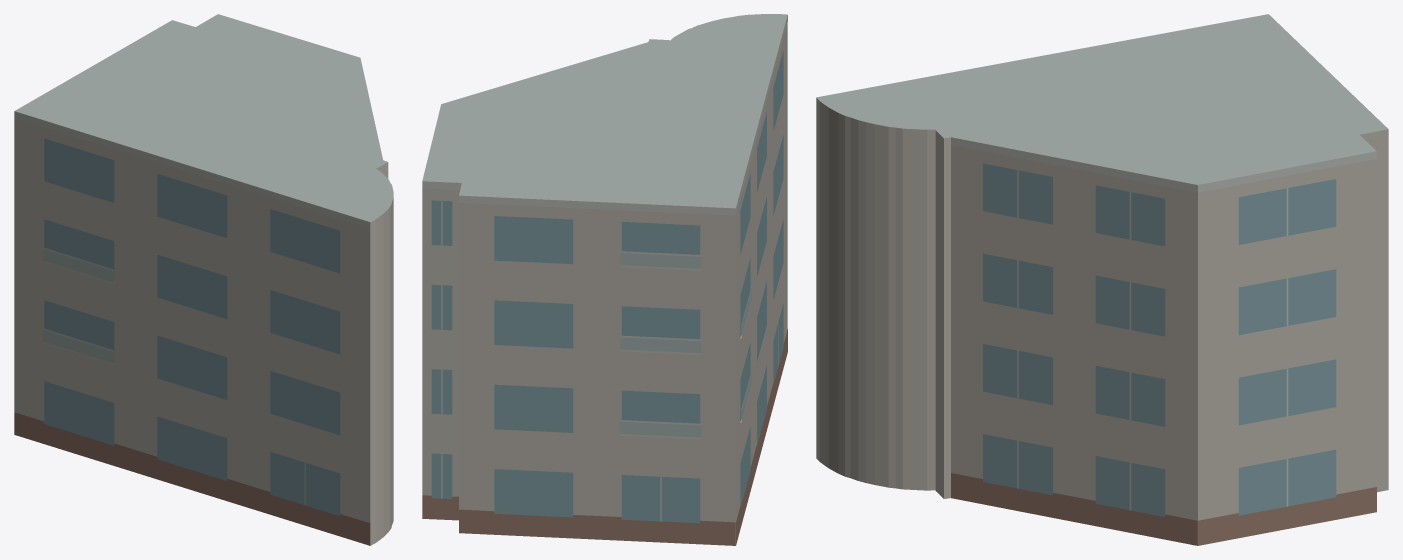
File: survey-upis-32935538.glb
The picture shows the model from 3 angles, left to right: view 1: azimuth 30°, elevation 25°; view 2: azimuth 150°, elevation 25°; view 3: azimuth 270°, elevation 25°; orthographic projection. The views are drawn at different scales.
Parts seen in each view (by area): view 1: survey-upis-32935538.tmp; view 2: survey-upis-32935538.tmp; view 3: survey-upis-32935538.tmp.
Boxes of the visible parts, x1,y1,x2,y2 form: survey-upis-32935538.tmp: (14, 14, 393, 545); survey-upis-32935538.tmp: (422, 14, 787, 545); survey-upis-32935538.tmp: (816, 14, 1388, 545).
Size of the model in its own units: 11.8 by 11.6 by 16.69.
